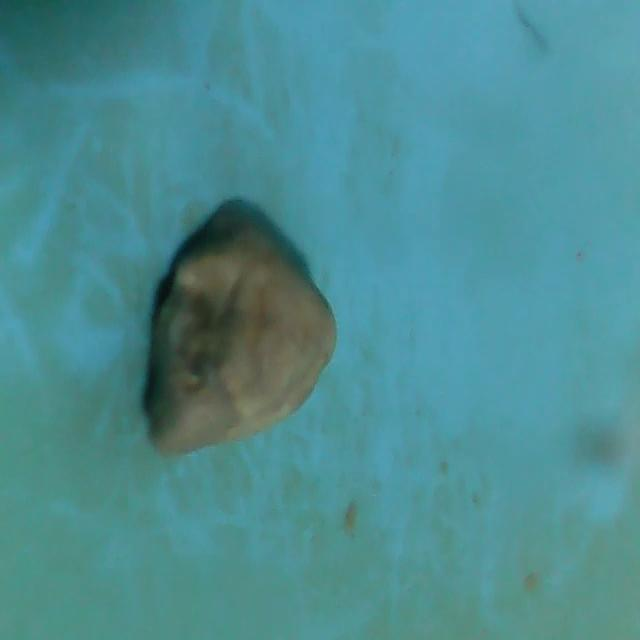rock: (144, 209, 343, 468)
